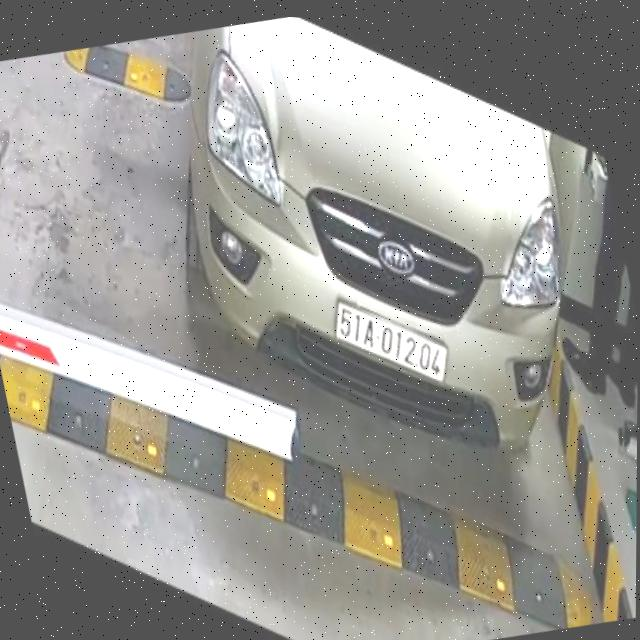car: (136, 8, 610, 524)
plate: (324, 275, 456, 406)
